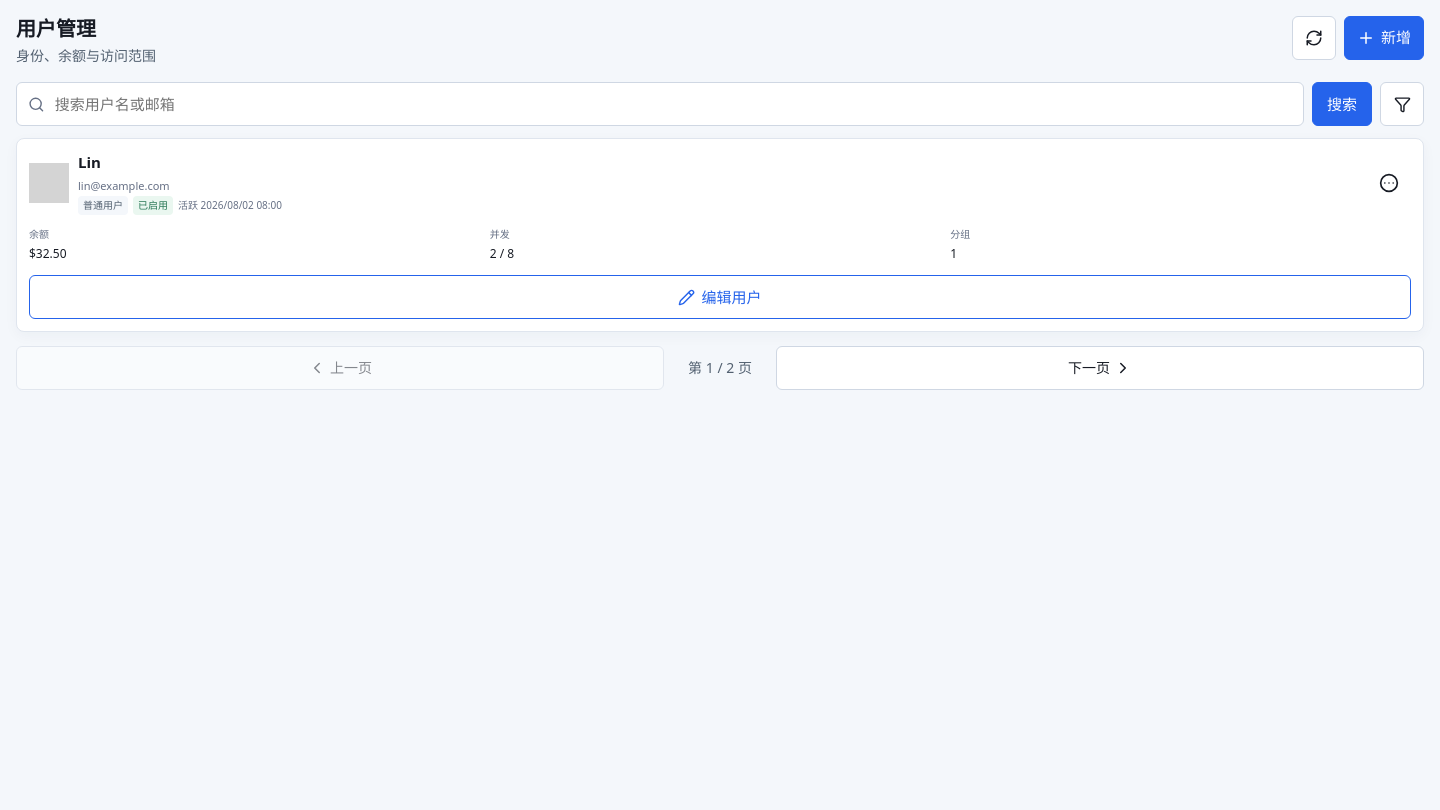
Test: MobileAdminUsersView › decrements delete totals locally, shrinks the page and preserves success on sync failure
Click the button with test id "mobile-pagination-next": coordinates (1100, 368) [776,346,1424,390]
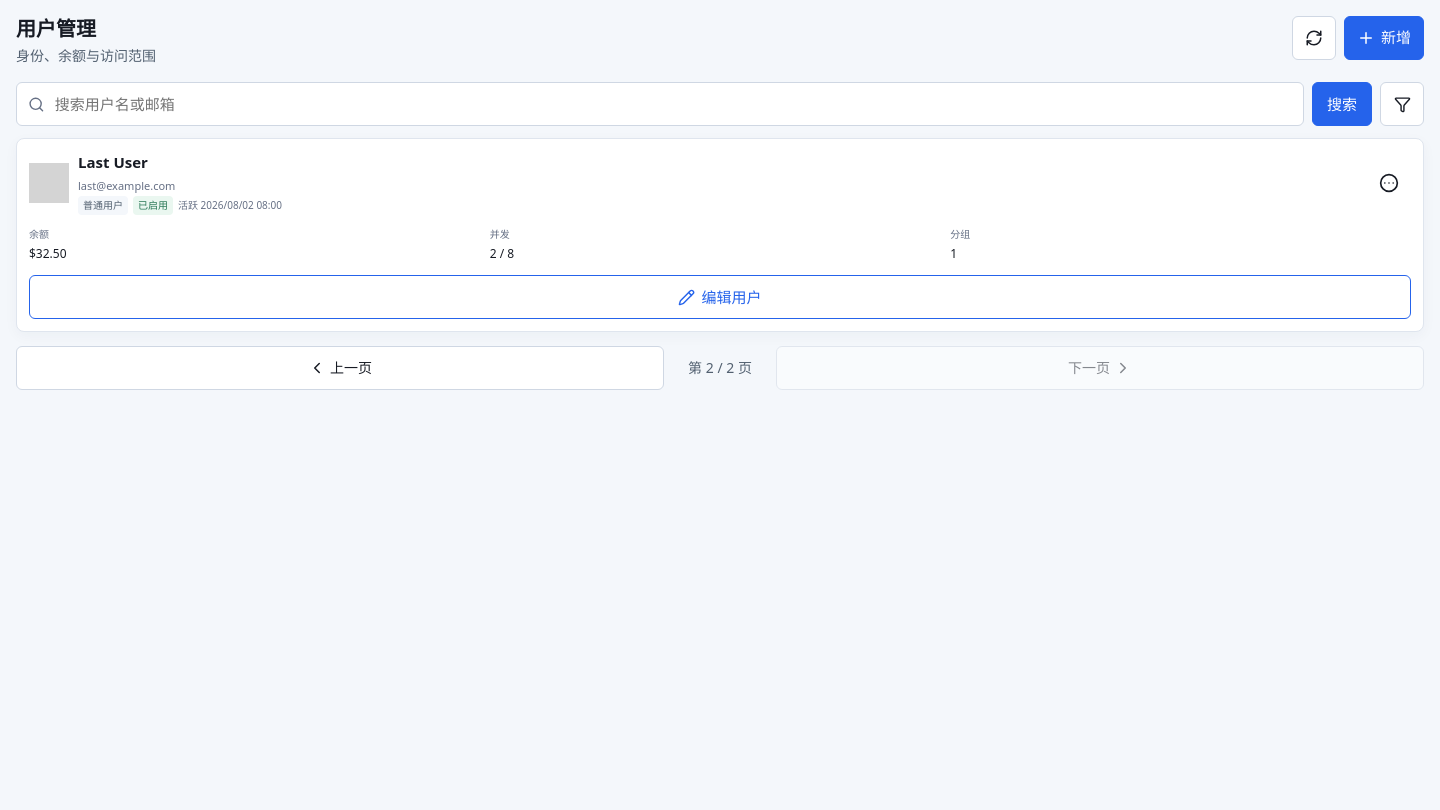
Click the button named "更多用户操作": coordinates (1389, 183) [1367,161,1411,205]
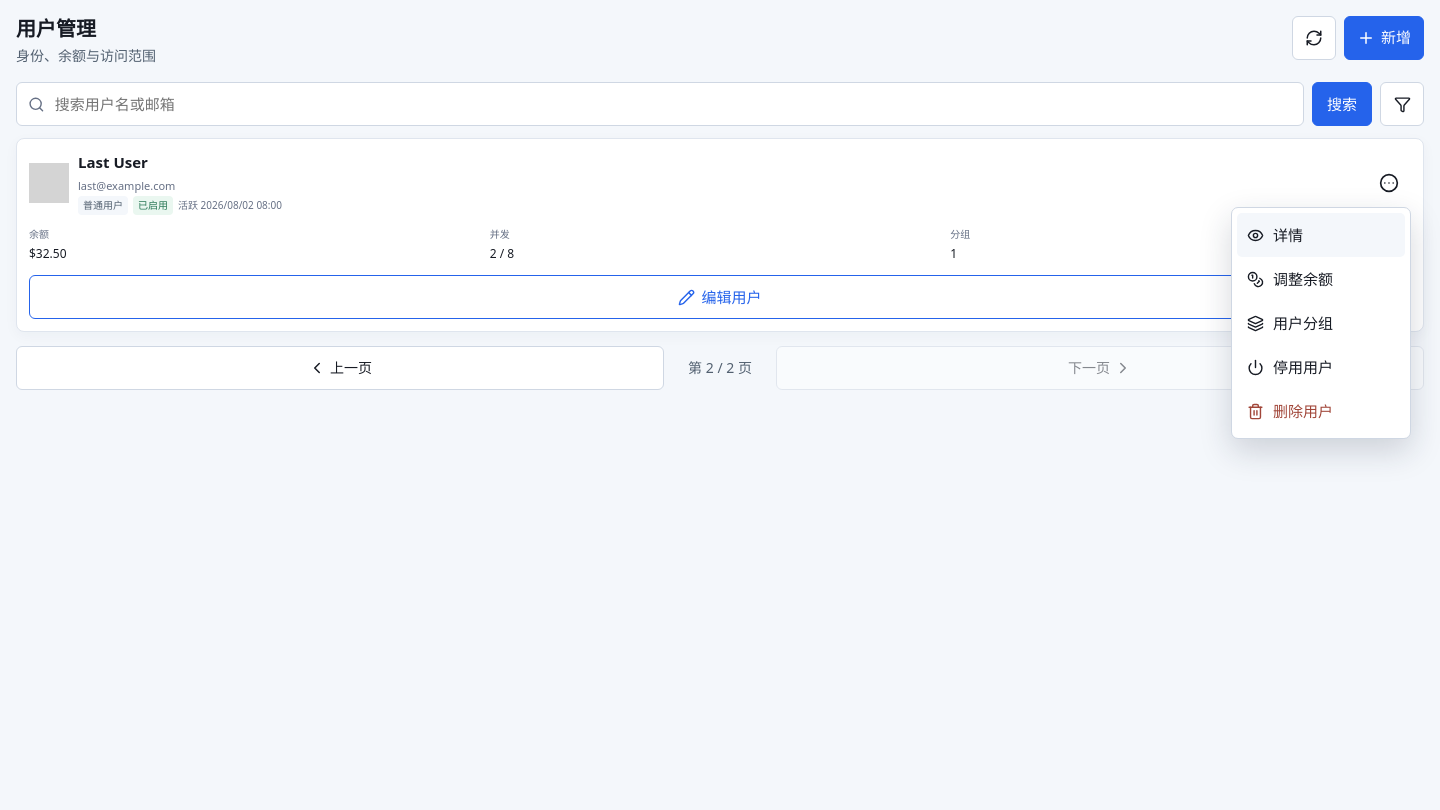
Click the menu item with test id "delete-user-21": coordinates (1321, 411) [1237,389,1405,433]
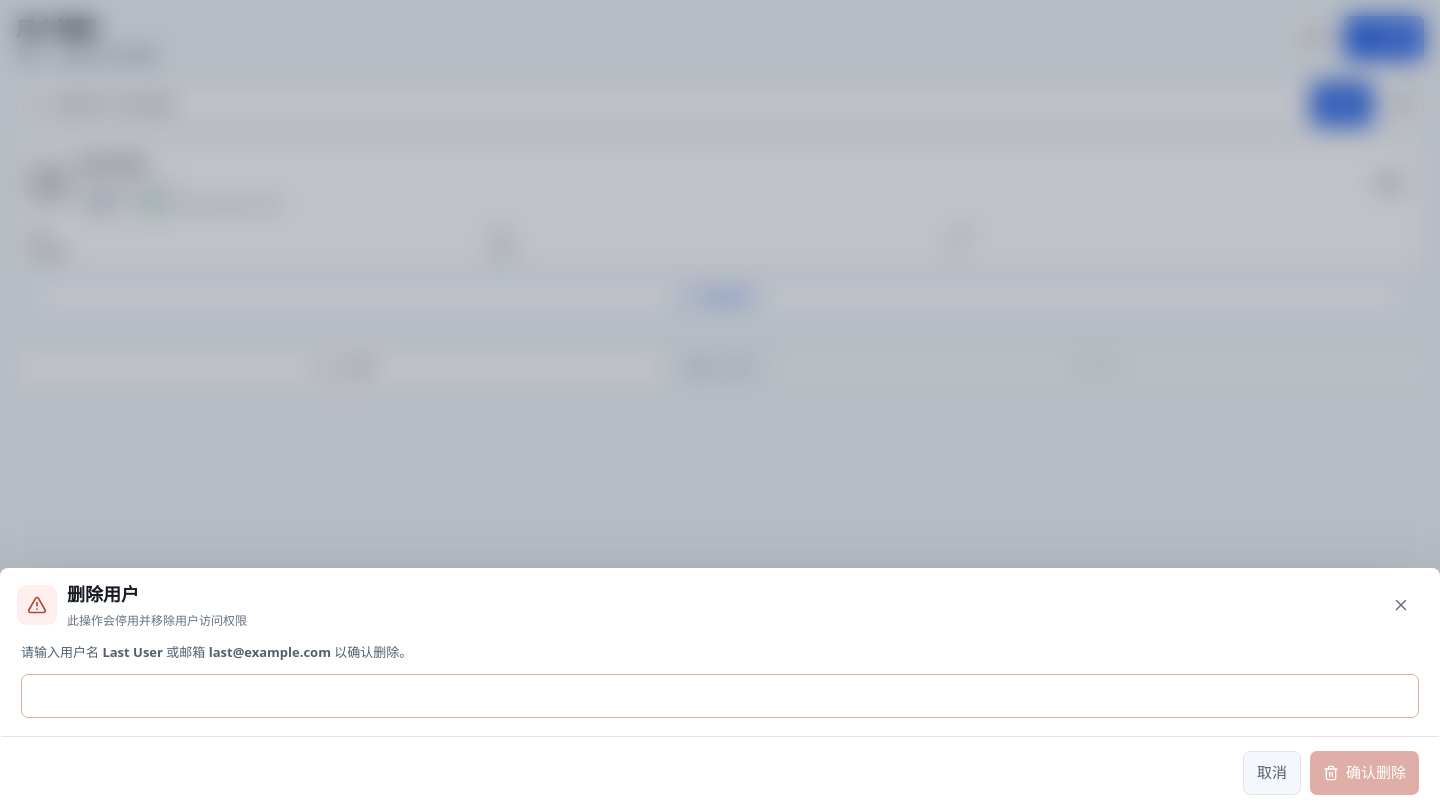
In the field with test id "delete-user-identity": coordinates (720, 696) [21,674,1419,718], type "Last User"
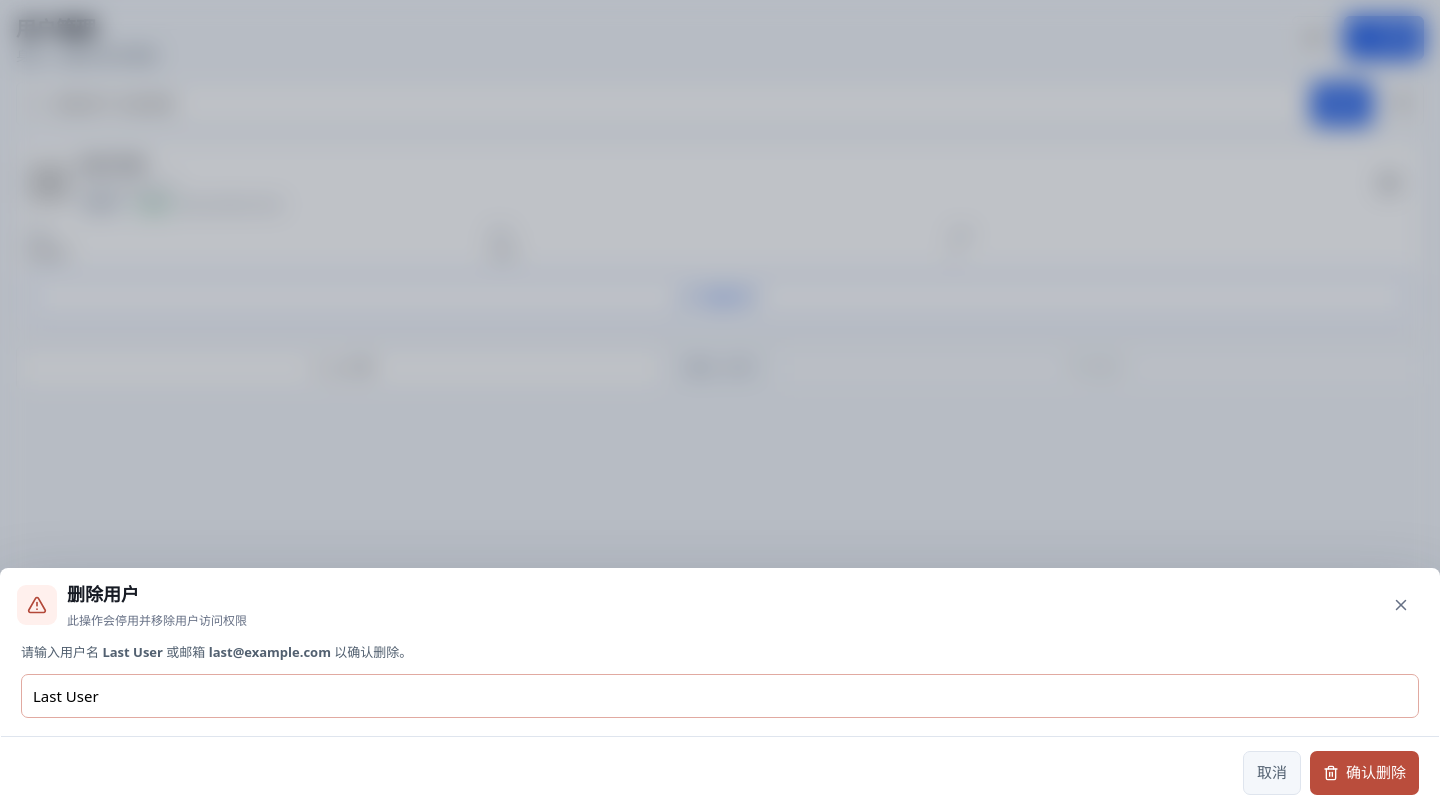
Click the button with test id "confirm-delete-user": coordinates (1364, 773) [1310,751,1419,795]
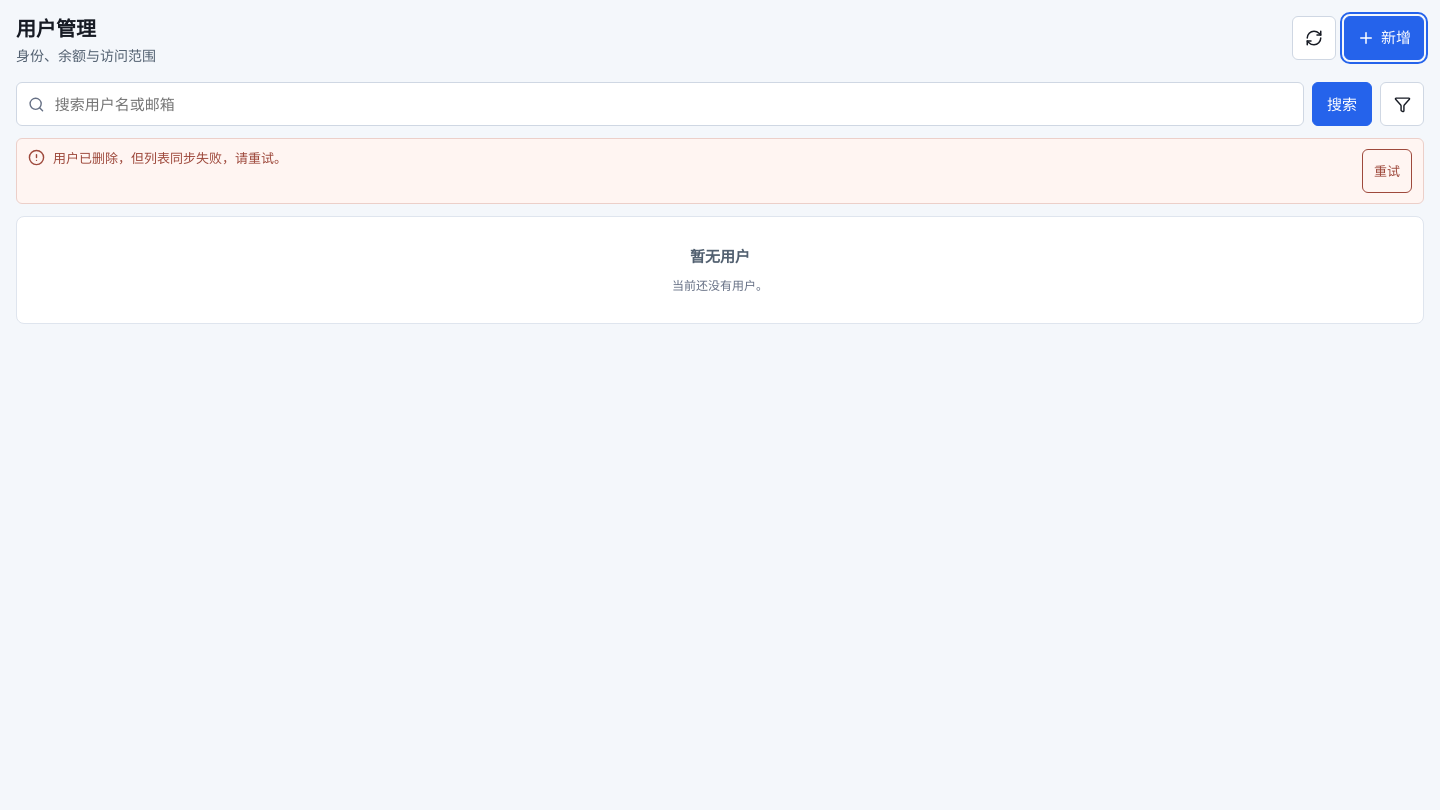
Expected: the message with test id "user-action-error" shows "列表同步失败", [53,149,287,167]
Click the button with test id "user-sync-retry": coordinates (1387, 171) [1362,149,1412,193]
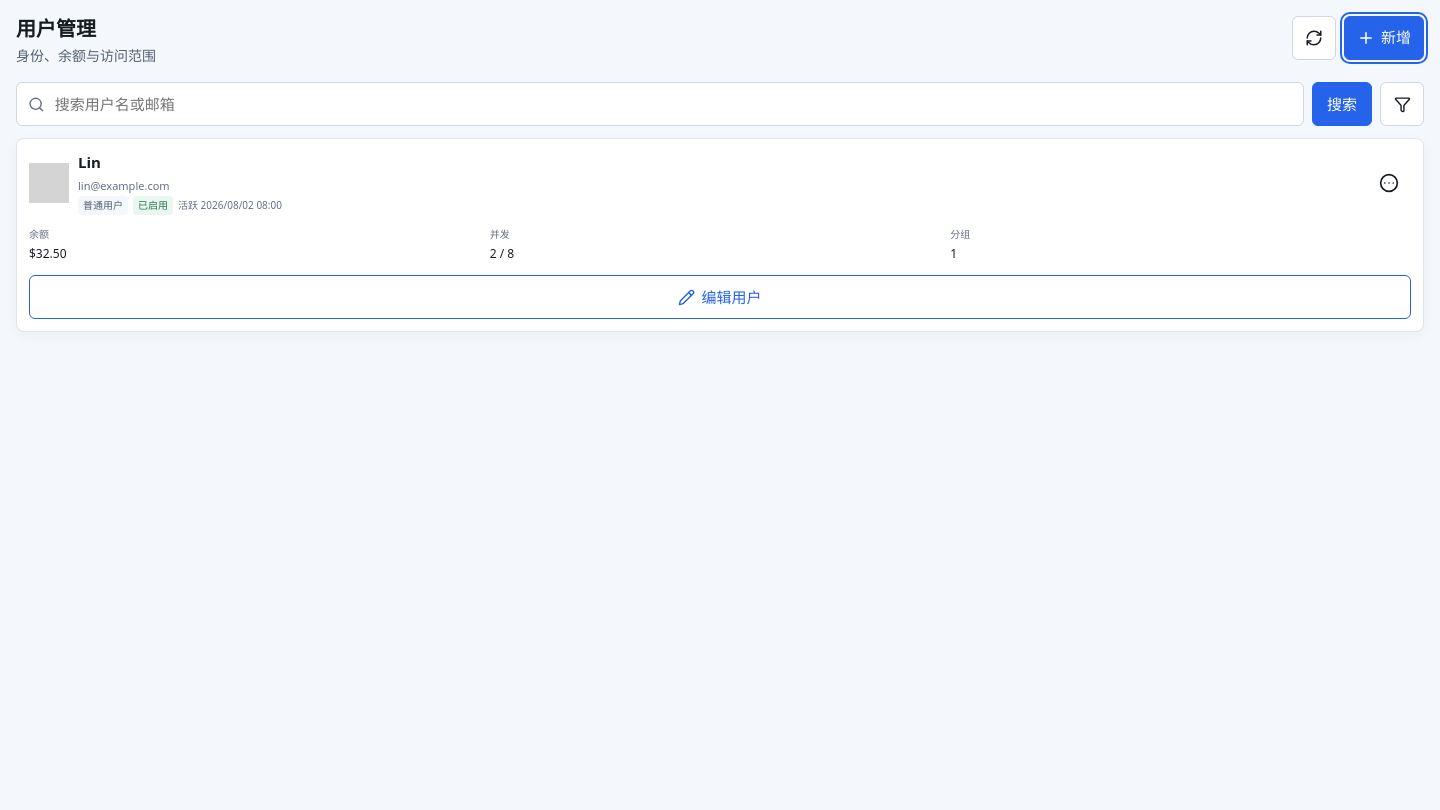
Expected: the text "lin@example.com" is shown, [78,178,170,192]
